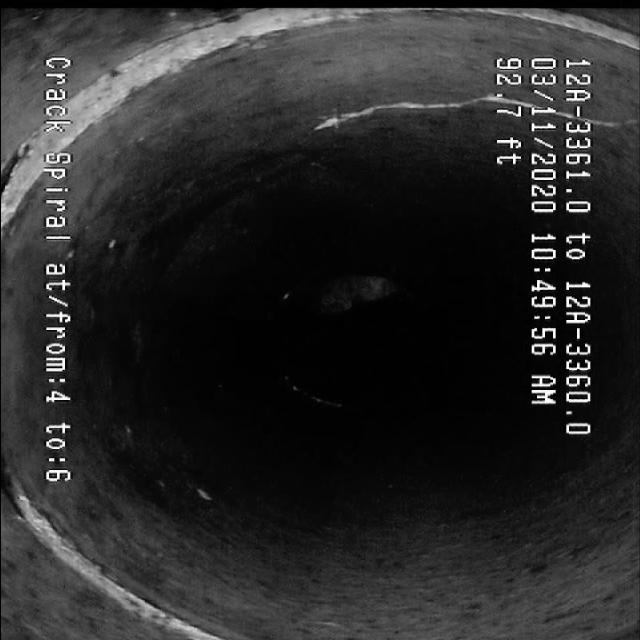Crack: (284, 86, 484, 142)
